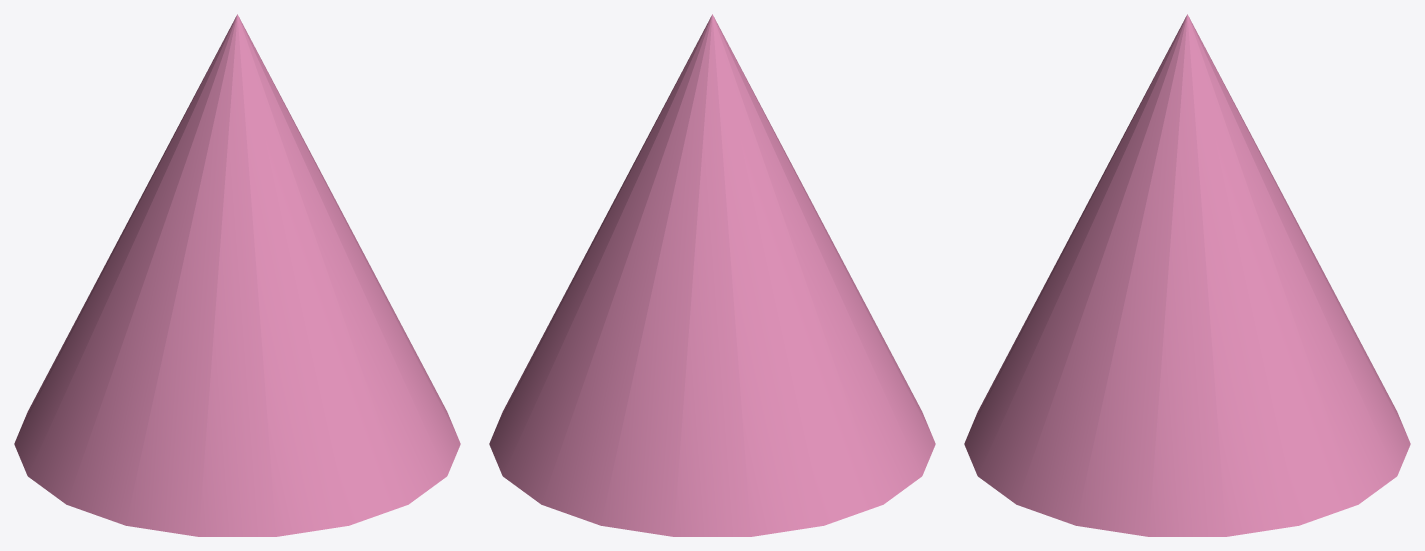
The model's file is body-dress-01.glb.
3 views of the same model, side by side, from view 1: azimuth 30°, elevation 25°; view 2: azimuth 150°, elevation 25°; view 3: azimuth 270°, elevation 25° (orthographic).
Size of the model in its own units: 1.58 by 1.7 by 1.6.
